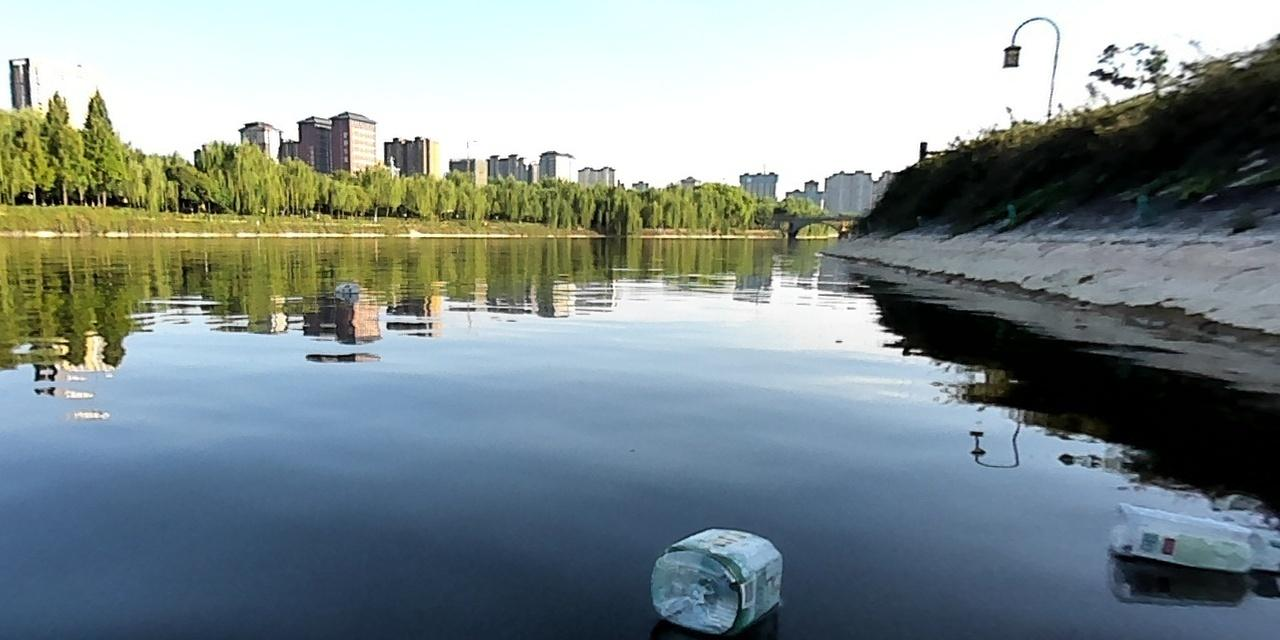bottle: (645, 521, 788, 639), (1105, 499, 1279, 577), (331, 280, 362, 297)
